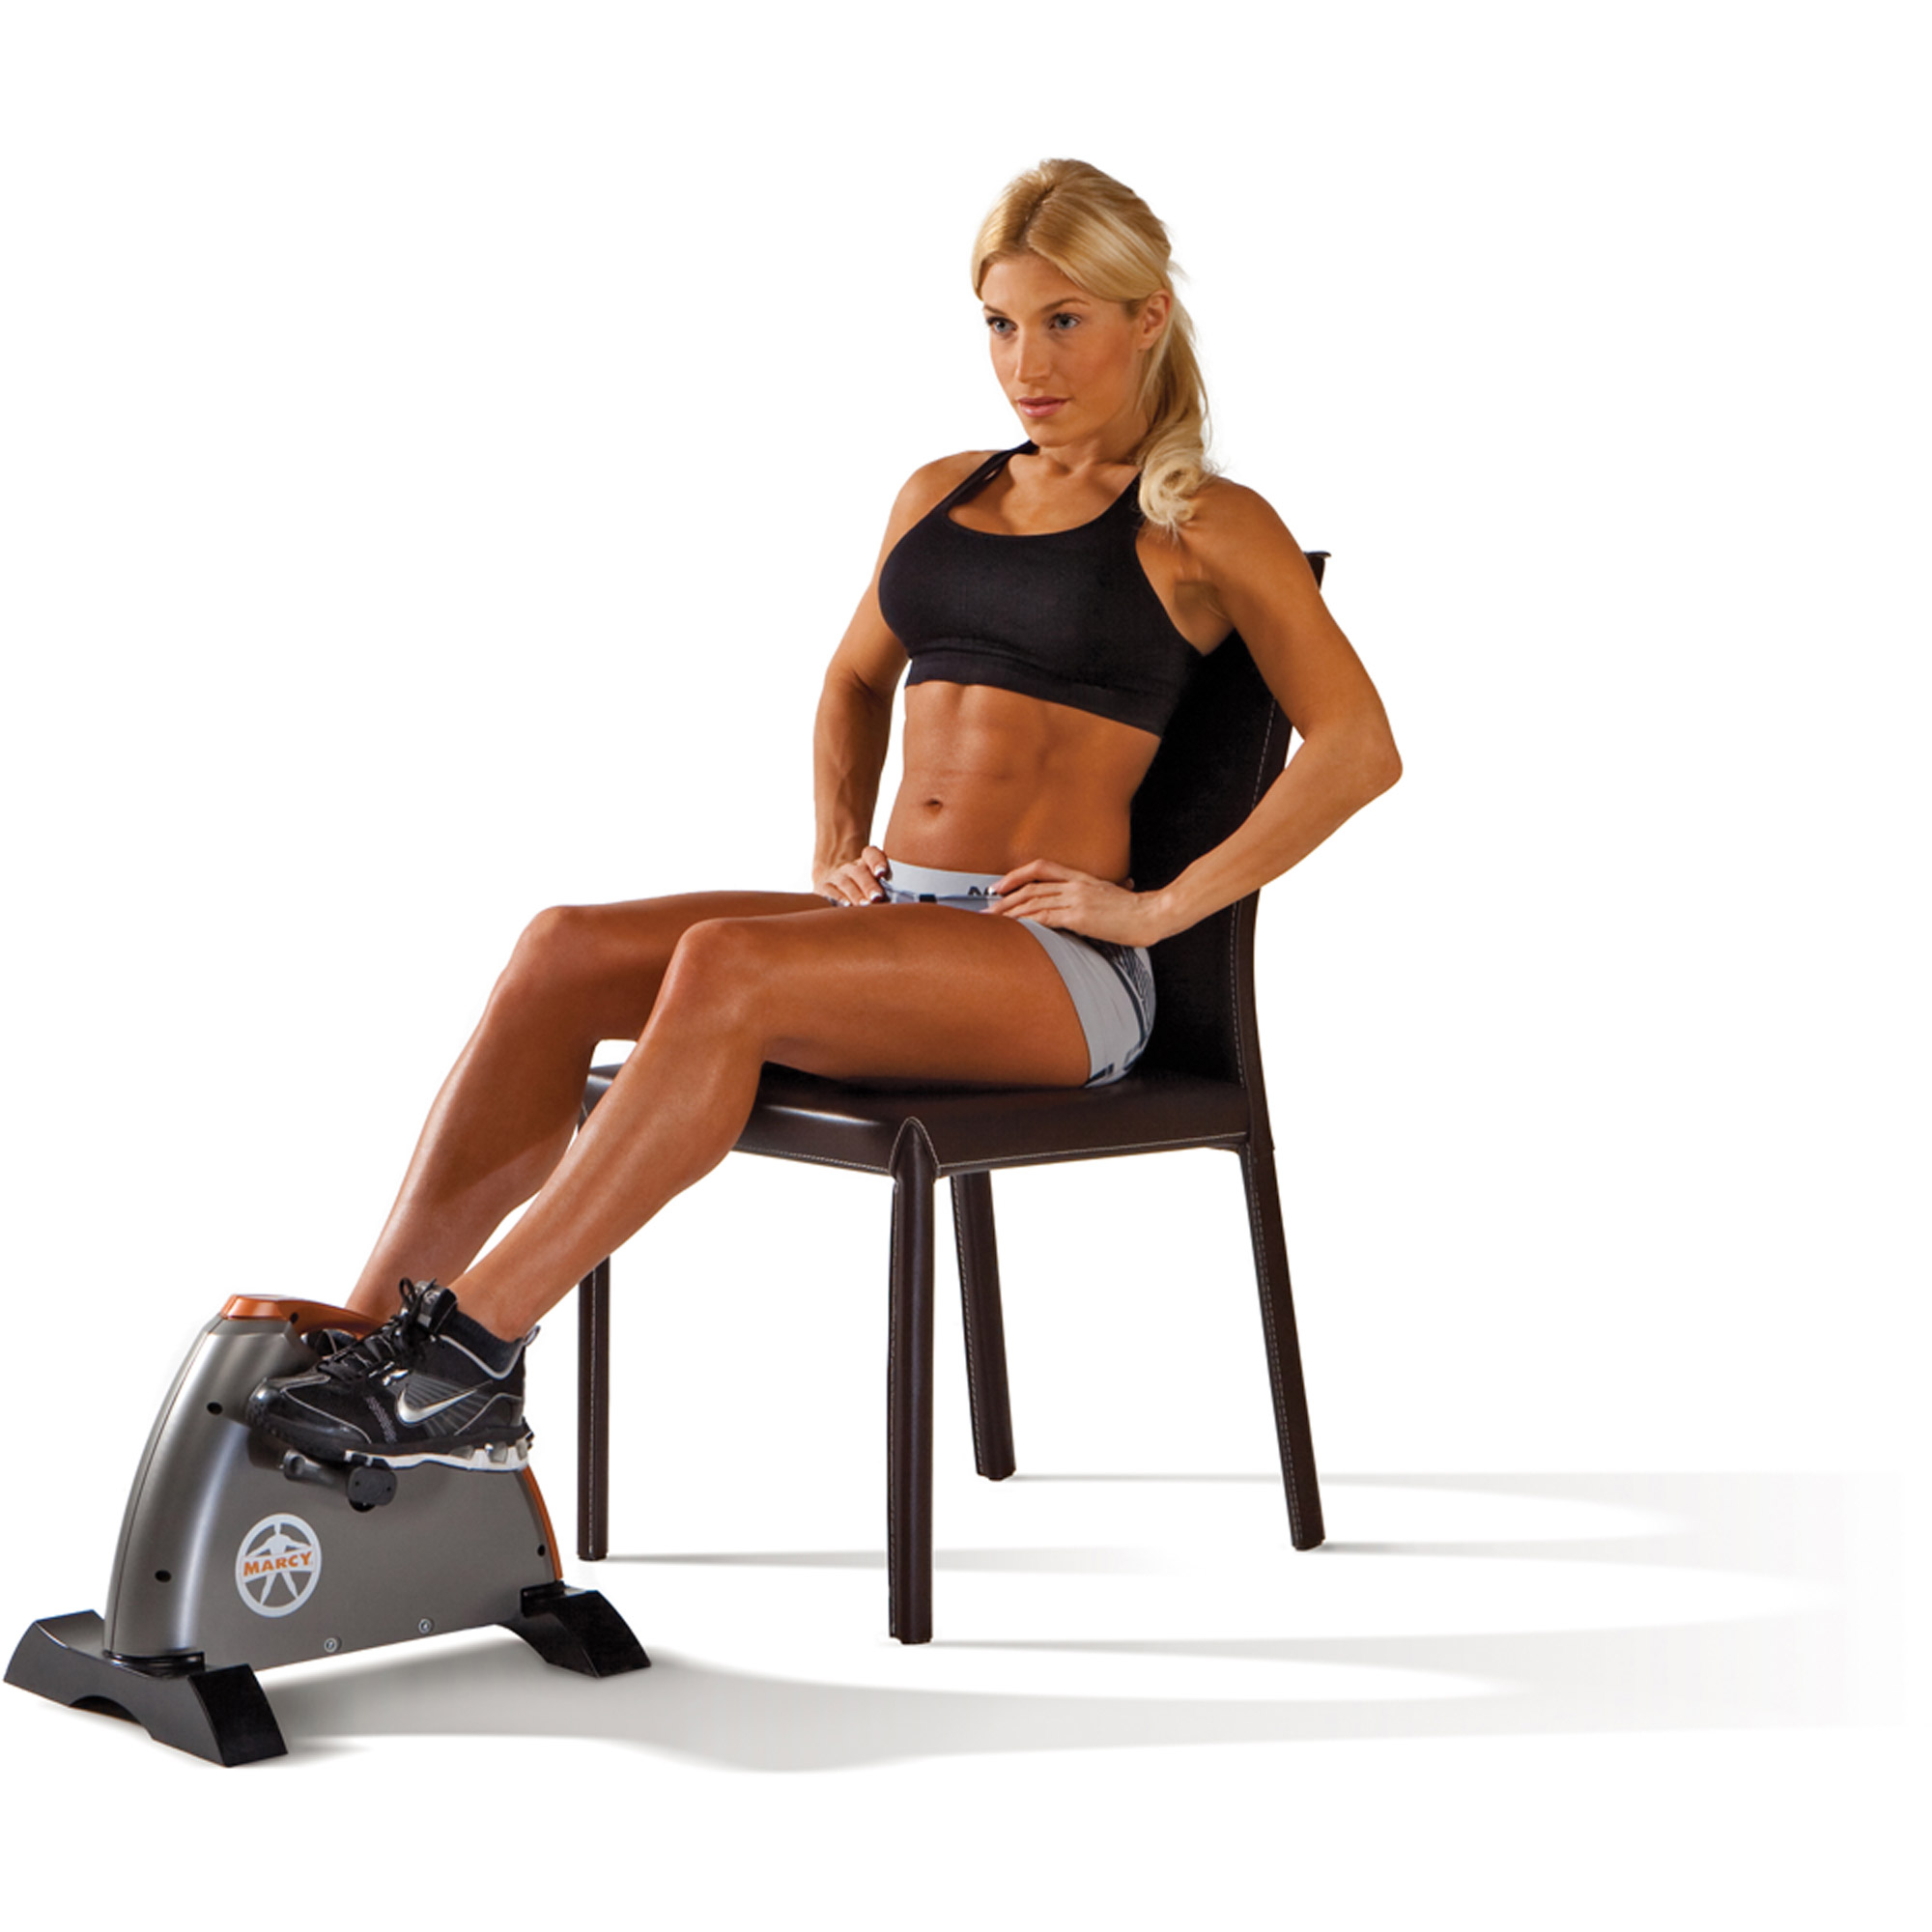gym_bike: (53, 1233, 609, 1782)
